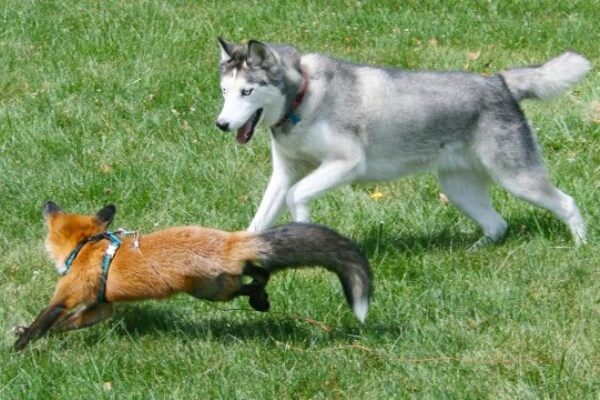husky: (197, 31, 378, 196)
